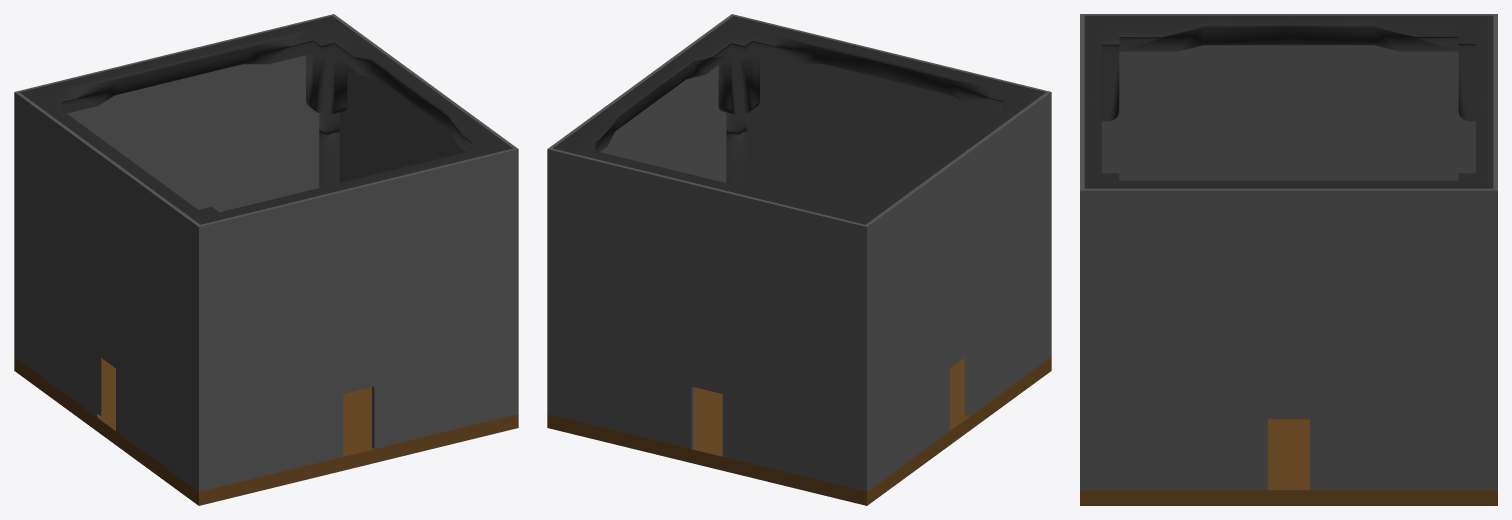
File: AllDoorsModel.fbx
3 renders of one model, left to right at view 1: azimuth 30°, elevation 25°; view 2: azimuth 150°, elevation 25°; view 3: azimuth 270°, elevation 25°, orthographic. The views are drawn at different scales.
Parts seen in each view (by area): view 1: AllDoorsModel; view 2: AllDoorsModel; view 3: AllDoorsModel.
Boxes of the visible parts, <box> form: AllDoorsModel: <box>14,14,518,505</box>; AllDoorsModel: <box>547,14,1051,505</box>; AllDoorsModel: <box>1080,14,1497,505</box>.
Bounding box in the file's own units: 2400 × 2002 × 2400.
